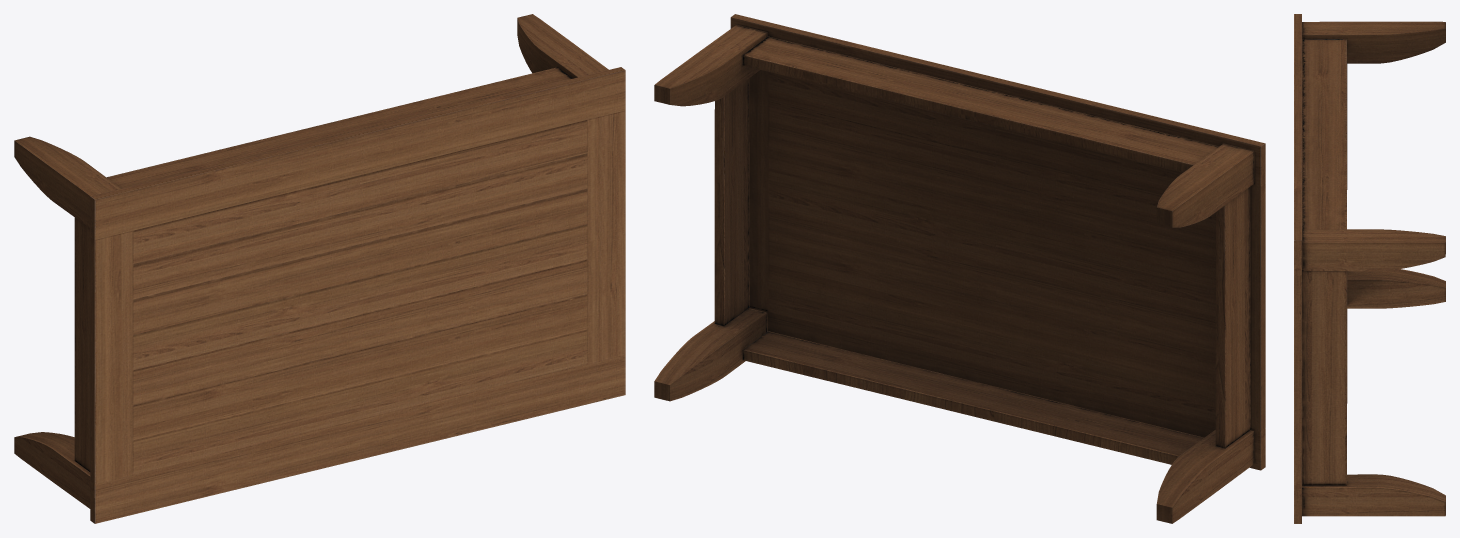
File: table.obj
The picture shows the model from 3 angles, left to right: view 1: azimuth 30°, elevation 25°; view 2: azimuth 150°, elevation 25°; view 3: azimuth 270°, elevation 25°; orthographic projection. The views are drawn at different scales.
Visible parts, largest first — view 1: coffee_table__coffee_table_001; view 2: coffee_table__coffee_table_001; view 3: coffee_table__coffee_table_001.
Part boxes in pixels (x1,y1,x2,y2): coffee_table__coffee_table_001: (14, 14, 625, 523); coffee_table__coffee_table_001: (654, 14, 1265, 523); coffee_table__coffee_table_001: (1294, 14, 1445, 523).
Bounding box in the file's own units: 124 × 72.74 × 35.3.
Materials: 1 (1 with a texture image).
